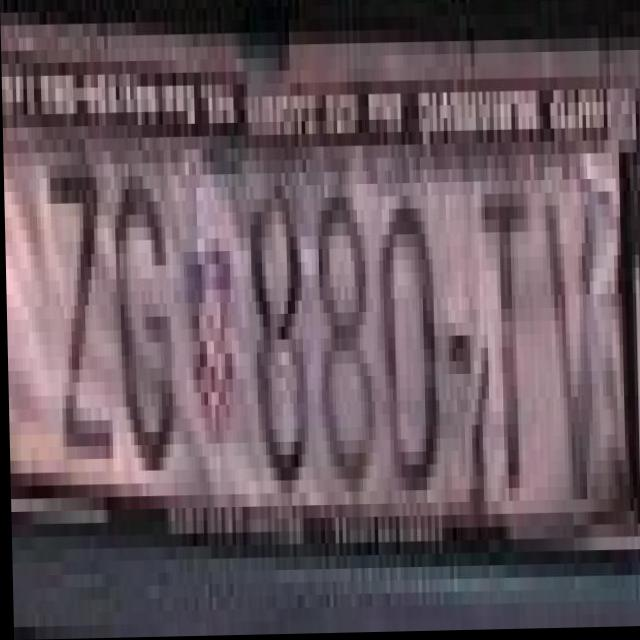0: (373, 198, 435, 506)
8: (316, 199, 375, 507), (248, 187, 304, 495)
G: (110, 189, 169, 472)
T: (473, 183, 535, 491)
V: (540, 169, 610, 503)
Z: (38, 152, 115, 460)
